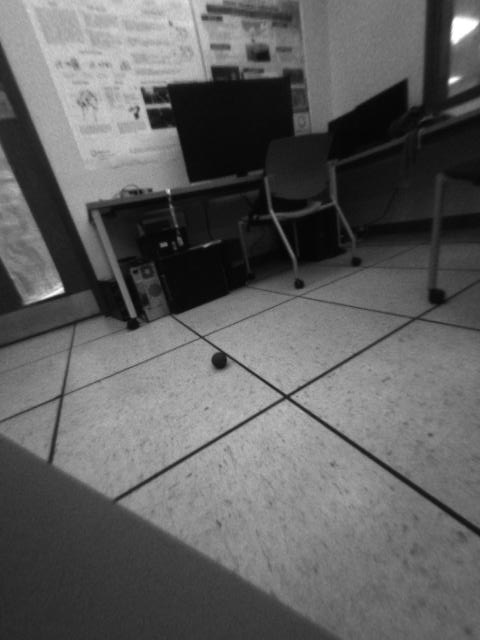dogtoy: (204, 344, 233, 373)
